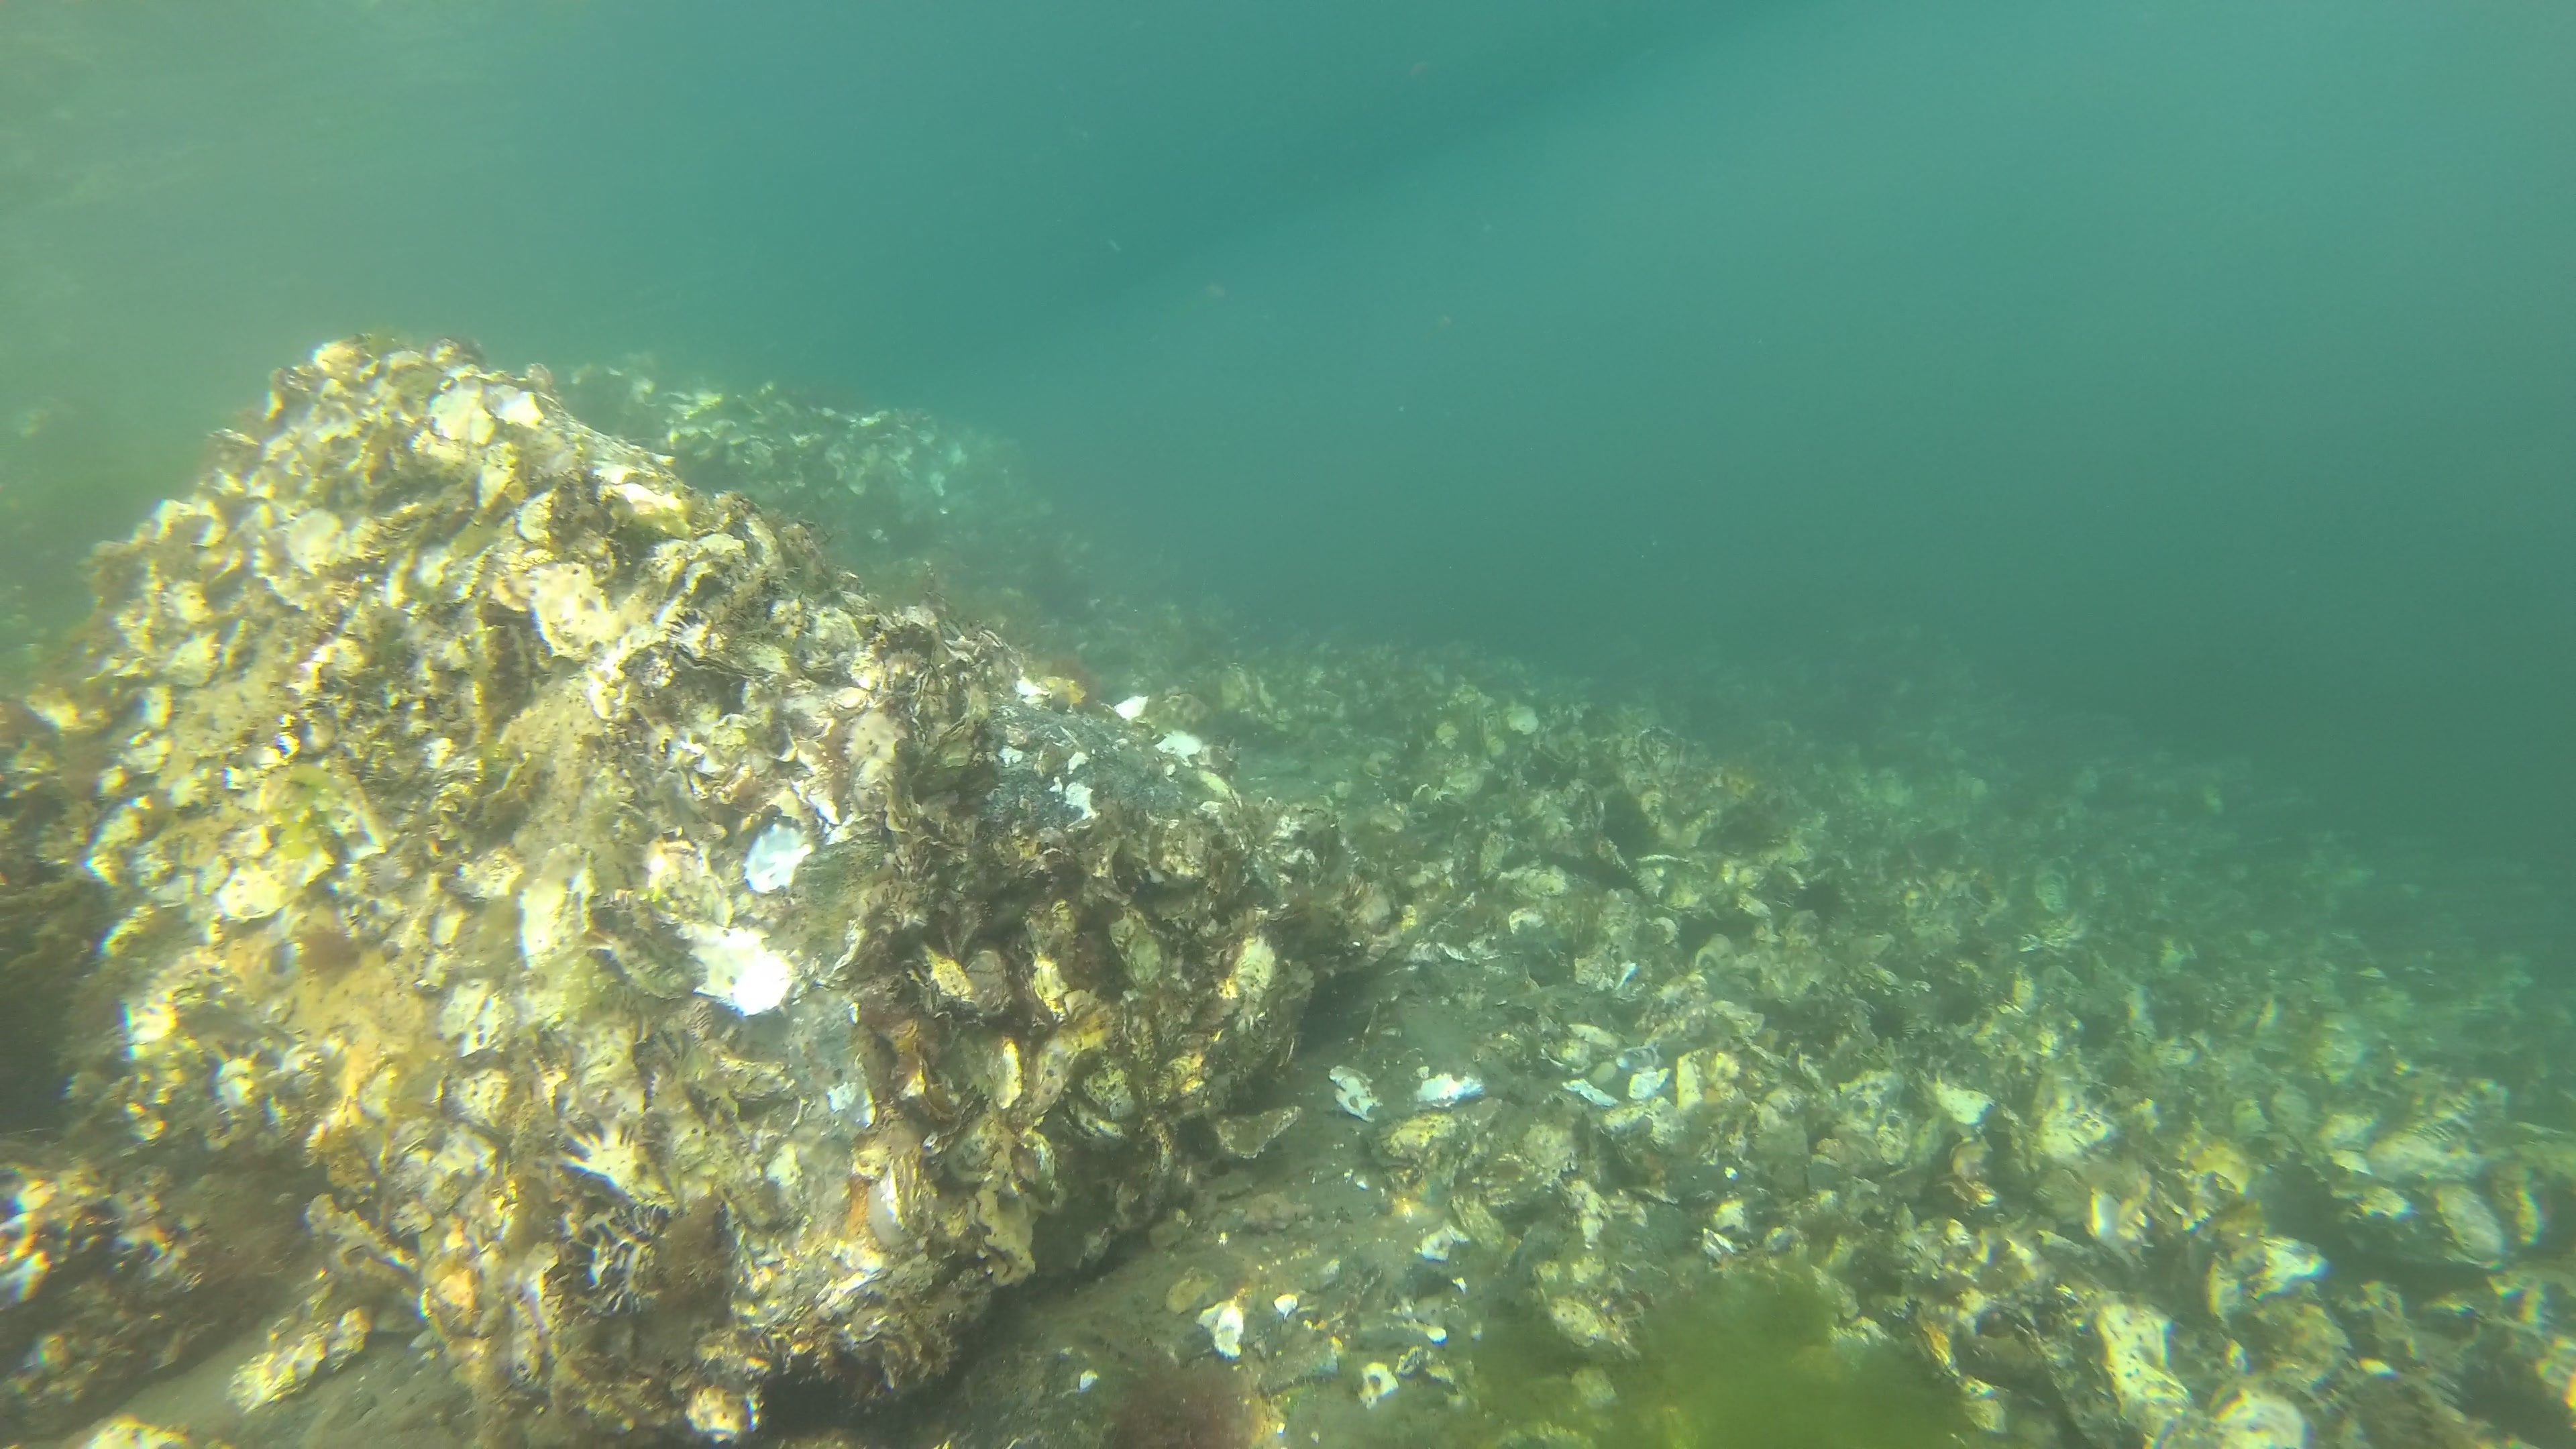echinus: (1601, 791, 1656, 849), (1865, 998, 1916, 1049), (2075, 1008, 2123, 1058), (1796, 874, 1840, 920)
